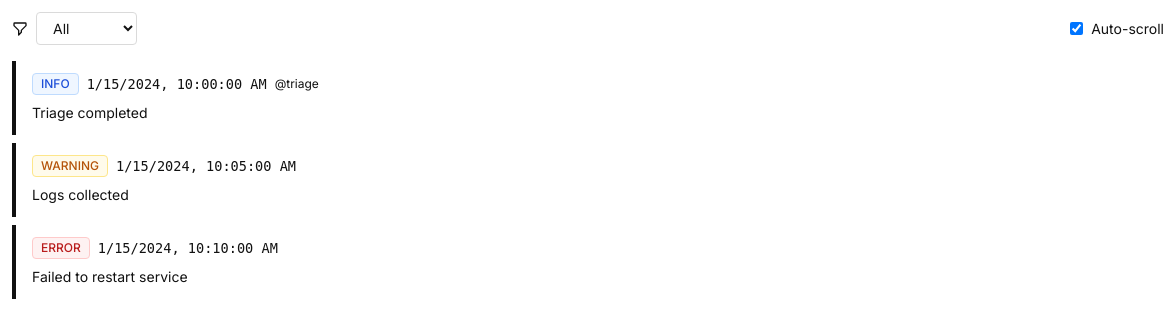
EventTimeline › filters events by level
The width and height of the screenshot is (1176, 316).
Select "Error" in the dropdown at {"x": 86, "y": 28}, box [36,12,137,45]
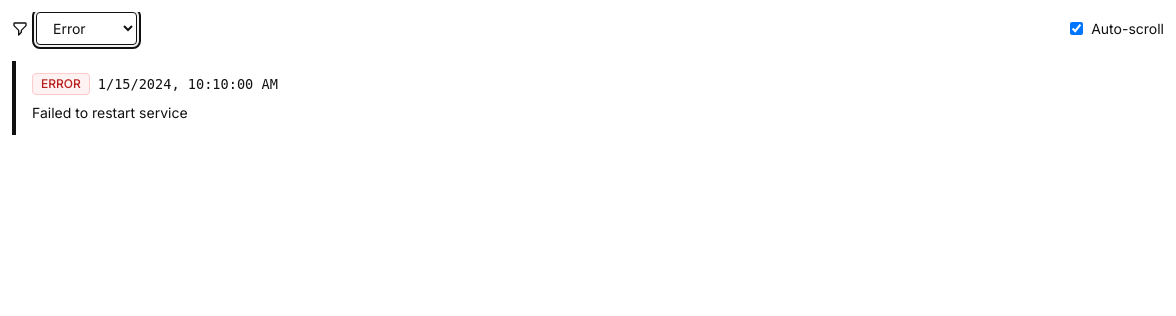
Check: the text "Failed to restart service" is shown, box [32,104,188,121]
Check: the text "Triage completed" is gone
